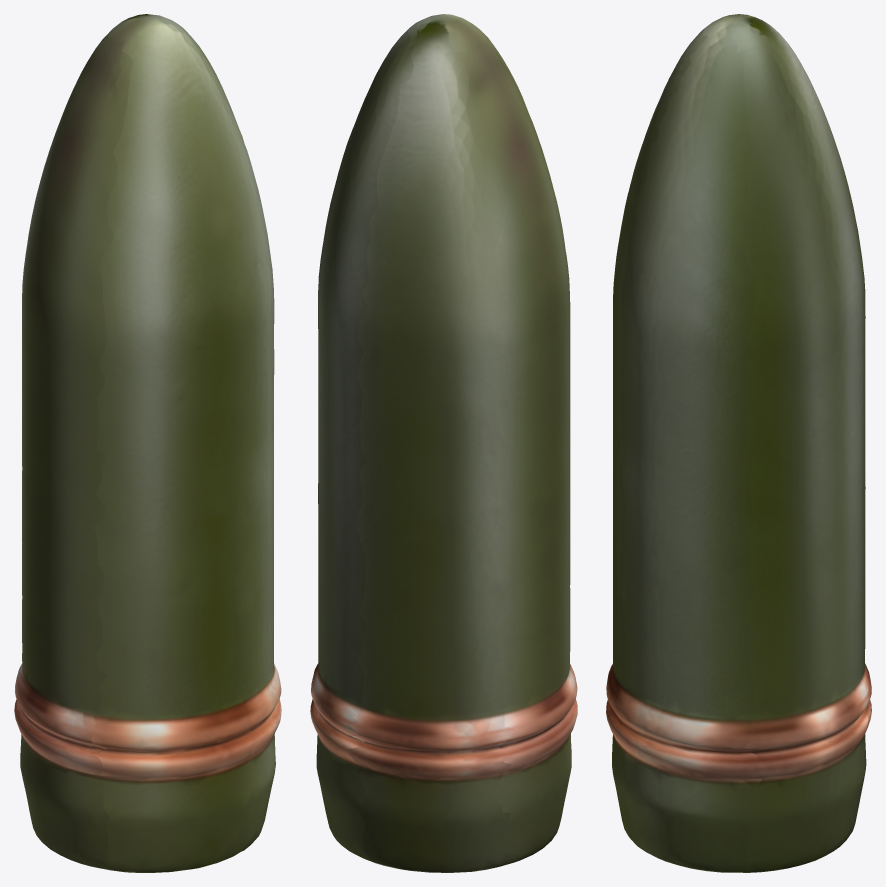
Rendered from shell_he.fbx.
The picture shows the model from 3 angles, left to right: view 1: azimuth 30°, elevation 25°; view 2: azimuth 150°, elevation 25°; view 3: azimuth 270°, elevation 25°; orthographic projection.
Visible parts, largest first — view 1: geometry_0; view 2: geometry_0; view 3: geometry_0.
Boxes of the visible parts, x1,y1,x2,y2 form: geometry_0: (14, 14, 281, 872); geometry_0: (310, 14, 577, 872); geometry_0: (606, 14, 871, 872).
Bounding box in the file's own units: 0.2994 × 1 × 0.2988.
1 material, 1 textured.
